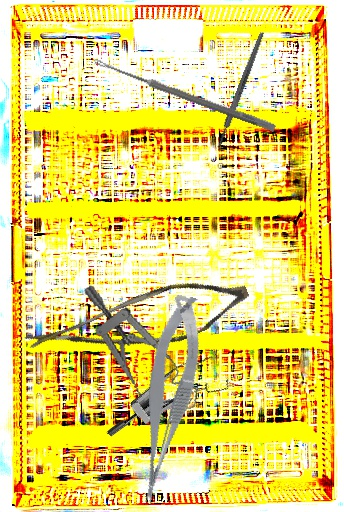Micro Scissor: (21, 246, 255, 401), (113, 291, 219, 507)
Scalpel Handle: (215, 30, 266, 150)
Speculum: (82, 266, 203, 434), (105, 332, 241, 474)
Surgical Spoon: (91, 57, 277, 132)
